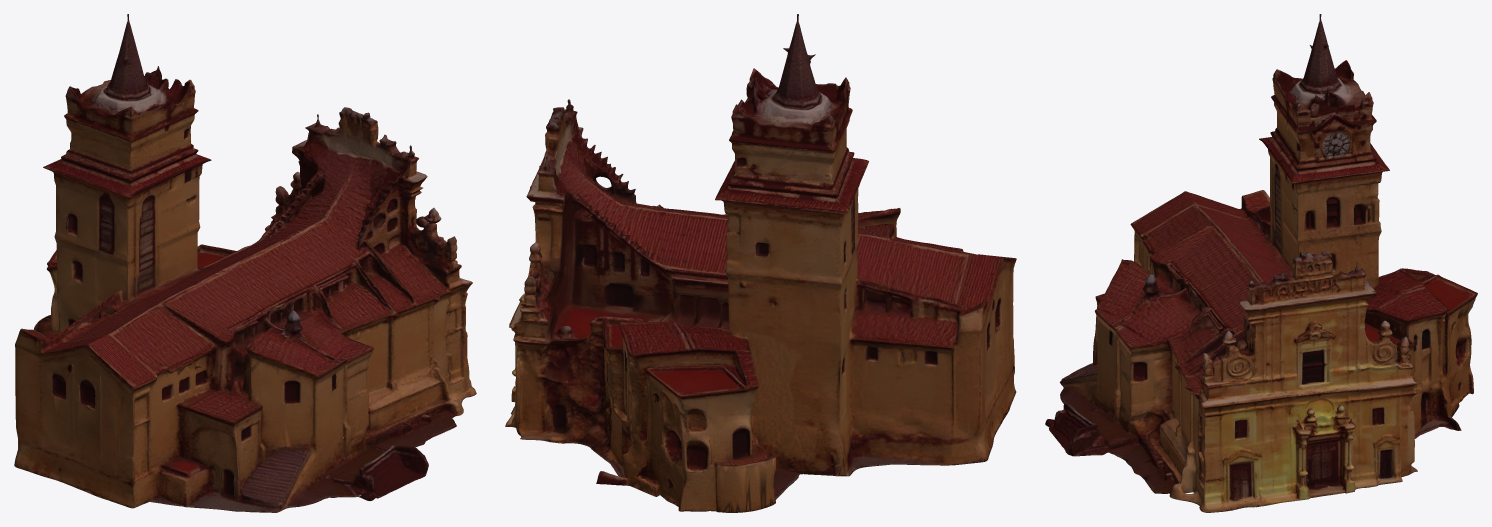
Rendered from duomosangiorgio1.glb.
3 renders of one model, left to right at view 1: azimuth 30°, elevation 25°; view 2: azimuth 150°, elevation 25°; view 3: azimuth 270°, elevation 25°, orthographic. The views are drawn at different scales.
Visible parts, largest first — view 1: tripo_node_5aa4ece1-396c-41de-956d-c0f9f13bce75; view 2: tripo_node_5aa4ece1-396c-41de-956d-c0f9f13bce75; view 3: tripo_node_5aa4ece1-396c-41de-956d-c0f9f13bce75.
Part boxes in pixels (x1=…): tripo_node_5aa4ece1-396c-41de-956d-c0f9f13bce75: x1=14, y1=14, x2=476, y2=512; tripo_node_5aa4ece1-396c-41de-956d-c0f9f13bce75: x1=505, y1=14, x2=1016, y2=512; tripo_node_5aa4ece1-396c-41de-956d-c0f9f13bce75: x1=1045, y1=14, x2=1477, y2=512.
Bounding box in the file's own units: 0.9678 × 0.8719 × 0.9186.
Materials: 1 (1 with a texture image).
